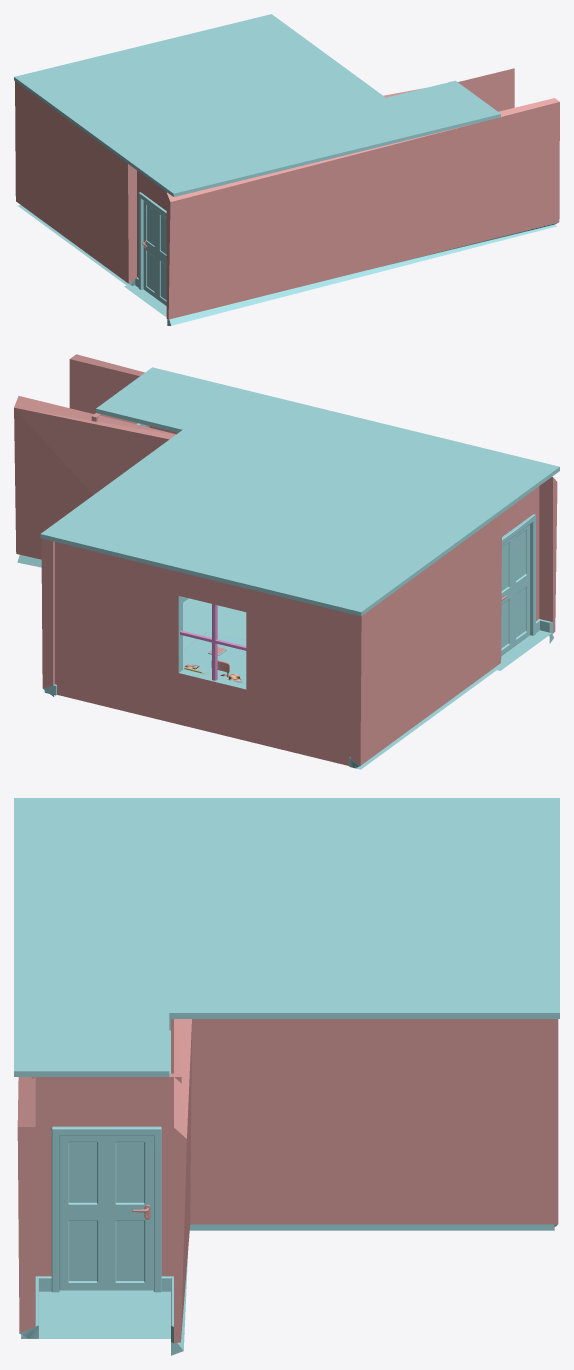
The model's file is chambre (1).fbx.
3 renders of one model, top to bottom at view 1: azimuth 30°, elevation 25°; view 2: azimuth 150°, elevation 25°; view 3: azimuth 270°, elevation 25°, orthographic. The views are drawn at different scales.
Parts seen in each view (by area): view 1: msh_cha_mur_petit.003, msh_cha_plafond, msh_cha_plafond.001, msh_cha_mur_petit, msh_cha_porte.001, msh_cha_mur_petit.004, msh_cha_mur_porte.001, msh_cha_sol.001; view 2: msh_cha_plafond, msh_cha_mur_fenetre, msh_cha_plafond.001, msh_cha_mur_petit, msh_cha_mur_petit.004, msh_cha_mur_petit.003, msh_cha_porte.001, msh_cha_mur_porte.001, msh_cha_mur_petit.002, msh_cha_sol, msh_cha_tapis, msh_cha_sol.001; view 3: msh_cha_plafond, msh_cha_mur_petit.002, msh_cha_plafond.001, msh_cha_mur_porte.002, msh_cha_porte.002, msh_cha_sol.001, msh_cha_mur_petit.004, msh_cha_mur_petit.003.
Part boxes in pixels (x1,y1,x2,y2): msh_cha_mur_petit.003: (166, 98, 559, 325); msh_cha_plafond: (14, 14, 385, 163); msh_cha_plafond.001: (128, 80, 500, 196); msh_cha_mur_petit: (15, 81, 136, 286); msh_cha_porte.001: (143, 201, 166, 305); msh_cha_mur_petit.004: (383, 68, 514, 111); msh_cha_mur_porte.001: (135, 170, 166, 289); msh_cha_sol.001: (124, 285, 166, 316); msh_cha_plafond: (40, 430, 503, 616); msh_cha_mur_fenetre: (55, 542, 350, 765); msh_cha_plafond.001: (96, 367, 559, 511); msh_cha_mur_petit: (349, 513, 502, 769); msh_cha_mur_petit.004: (14, 396, 175, 567); msh_cha_mur_petit.003: (69, 354, 557, 643); msh_cha_porte.001: (501, 524, 529, 655); msh_cha_mur_porte.001: (502, 486, 539, 635); msh_cha_mur_petit.002: (41, 538, 188, 696); msh_cha_sol: (183, 598, 246, 649); msh_cha_tapis: (183, 631, 246, 683); msh_cha_sol.001: (495, 630, 551, 670); msh_cha_plafond: (169, 798, 559, 1018); msh_cha_mur_petit.002: (171, 1019, 558, 1230); msh_cha_plafond.001: (14, 798, 169, 1076); msh_cha_mur_porte.002: (31, 1073, 181, 1292); msh_cha_porte.002: (59, 1135, 153, 1290); msh_cha_sol.001: (39, 1030, 170, 1338); msh_cha_mur_petit.004: (171, 1019, 191, 1355); msh_cha_mur_petit.003: (17, 1077, 38, 1338).
Size of the model in its own units: 978 by 331 by 695.
